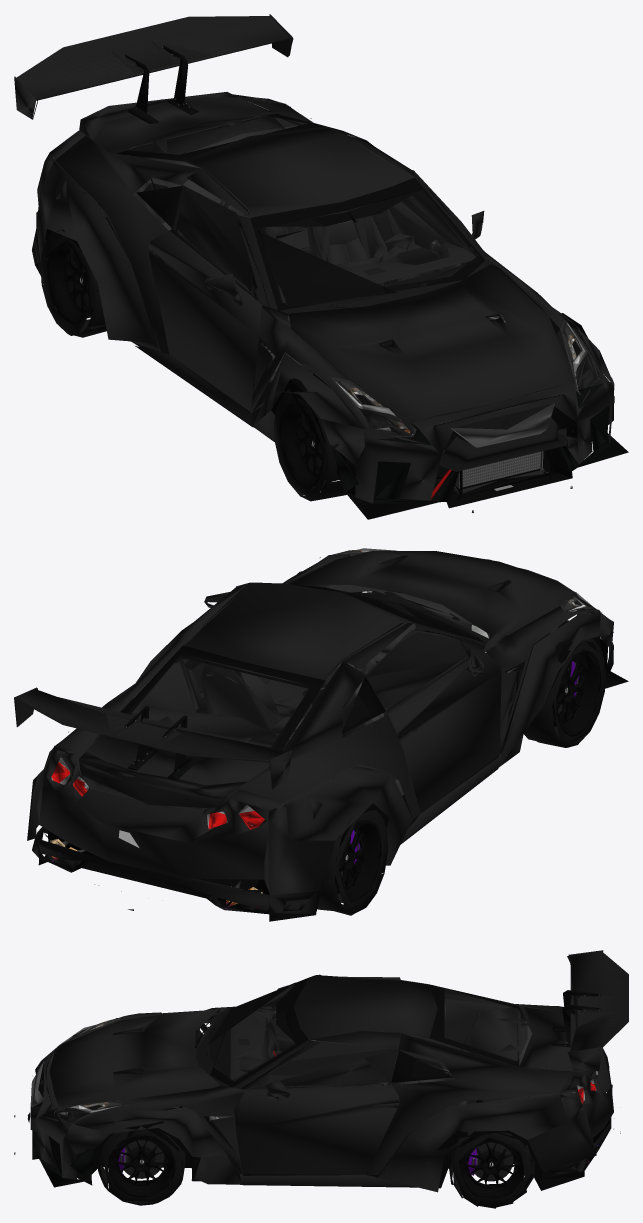
Rendered from gtr-type2.glb.
3 renders of one model, top to bottom at view 1: azimuth 30°, elevation 25°; view 2: azimuth 150°, elevation 25°; view 3: azimuth 270°, elevation 25°, orthographic. The views are drawn at different scales.
Visible parts, largest first — view 1: n:Kit4_Paint_Geo_lodA_Kit4_Paint_Geo_lodA_Nissan_GTRTNR4_201, n:Kit4_Window_Geo_lodA_Kit4_Window_Geo_lodA_Nissan_GTRTNR4_2 (×2), n:Hood4a_Paint_Geo_lodA_Hood4a_Paint_Geo_lodA_Nissan_GTRTNR4, n:Wing4b_Paint_Geo_lodA_Wing4b_Paint_Geo_lodA_Nissan_GTRTNR4, n:Kit4_Coloured_Geo_lodA_Kit4_Coloured_Geo_lodA_Nissan_GTRTN, n:Interior_Geo_lodA_Interior_Geo_lodA_Nissan_GTRTNR4_2017Int, n:Wing4b_Carbon1_Geo_lodA_Wing4b_Carbon1_Geo_lodA_Nissan_GTR, n:Kit4_Base_Geo_lodA_Kit4_Base_Geo_lodA_Nissan_GTRTNR4_2017B, n:Kit4_Light_Geo_lodA_Kit4_Light_Geo_lodA_Nissan_GTRTNR4_201, Mesh_rim_0_284_424, Mesh2_rim_0_518_772, n:Wing4b_Coloured_Geo_lodA_Wing4b_Coloured_Geo_lodA_Nissan_G (+3 smaller); view 2: n:Wing4b_Paint_Geo_lodA_Wing4b_Paint_Geo_lodA_Nissan_GTRTNR4, n:Kit4_Paint_Geo_lodA_Kit4_Paint_Geo_lodA_Nissan_GTRTNR4_201, n:Kit4_Window_Geo_lodA_Kit4_Window_Geo_lodA_Nissan_GTRTNR4_2 (×3), n:Kit4_Coloured_Geo_lodA_Kit4_Coloured_Geo_lodA_Nissan_GTRTN, n:Hood4a_Paint_Geo_lodA_Hood4a_Paint_Geo_lodA_Nissan_GTRTNR4, n:Interior_Geo_lodA_Interior_Geo_lodA_Nissan_GTRTNR4_2017Int, n:Wing4b_Carbon1_Geo_lodA_Wing4b_Carbon1_Geo_lodA_Nissan_GTR, n:Kit4_Base_Geo_lodA_Kit4_Base_Geo_lodA_Nissan_GTRTNR4_2017B, Mesh_rim_0_284_424, Mesh2_rim_0_518_772, polySurface433_N:Nissan_GTRNismoNRewardRecycled_2017_Wheel1A, n:Wing4b_Coloured_Geo_lodA_Wing4b_Coloured_Geo_lodA_Nissan_G (+4 smaller); view 3: n:Kit4_Paint_Geo_lodA_Kit4_Paint_Geo_lodA_Nissan_GTRTNR4_201, n:Wing4b_Paint_Geo_lodA_Wing4b_Paint_Geo_lodA_Nissan_GTRTNR4, n:Kit4_Window_Geo_lodA_Kit4_Window_Geo_lodA_Nissan_GTRTNR4_2 (×2), n:Hood4a_Paint_Geo_lodA_Hood4a_Paint_Geo_lodA_Nissan_GTRTNR4, n:Kit4_Coloured_Geo_lodA_Kit4_Coloured_Geo_lodA_Nissan_GTRTN, n:Interior_Geo_lodA_Interior_Geo_lodA_Nissan_GTRTNR4_2017Int, n:Wing4b_Carbon1_Geo_lodA_Wing4b_Carbon1_Geo_lodA_Nissan_GTR, n:Kit4_Base_Geo_lodA_Kit4_Base_Geo_lodA_Nissan_GTRTNR4_2017B, aimgain_G2M:Mesh_rim_0_171_256, Mesh1_rim_0_401_598, polySurface312_N:Nissan_GTRNismoNRewardRecycled_2017_Wheel1A, polySurface140_N:Nissan_GTRNismoNRewardRecycled_2017_Wheel1A (+4 smaller).
Part boxes in pixels (<box>): n:Kit4_Paint_Geo_lodA_Kit4_Paint_Geo_lodA_Nissan_GTRTNR4_201: <box>86,102,614,503</box>; n:Kit4_Window_Geo_lodA_Kit4_Window_Geo_lodA_Nissan_GTRTNR4_2 (×2): <box>117,114,597,436</box>; n:Hood4a_Paint_Geo_lodA_Hood4a_Paint_Geo_lodA_Nissan_GTRTNR4: <box>288,264,574,422</box>; n:Wing4b_Paint_Geo_lodA_Wing4b_Paint_Geo_lodA_Nissan_GTRTNR4: <box>14,17,364,354</box>; n:Kit4_Coloured_Geo_lodA_Kit4_Coloured_Geo_lodA_Nissan_GTRTN: <box>32,134,628,519</box>; n:Interior_Geo_lodA_Interior_Geo_lodA_Nissan_GTRTNR4_2017Int: <box>99,116,475,382</box>; n:Wing4b_Carbon1_Geo_lodA_Wing4b_Carbon1_Geo_lodA_Nissan_GTR: <box>14,14,293,119</box>; n:Kit4_Base_Geo_lodA_Kit4_Base_Geo_lodA_Nissan_GTRTNR4_2017B: <box>46,115,598,508</box>; n:Kit4_Light_Geo_lodA_Kit4_Light_Geo_lodA_Nissan_GTRTNR4_201: <box>53,97,599,437</box>; Mesh_rim_0_284_424: <box>279,403,340,489</box>; Mesh2_rim_0_518_772: <box>47,241,99,325</box>; n:Wing4b_Coloured_Geo_lodA_Wing4b_Coloured_Geo_lodA_Nissan_G: <box>16,45,311,341</box>; n:Wing4b_Paint_Geo_lodA_Wing4b_Paint_Geo_lodA_Nissan_GTRTNR4: <box>18,626,420,895</box>; n:Kit4_Paint_Geo_lodA_Kit4_Paint_Geo_lodA_Nissan_GTRTNR4_201: <box>81,550,613,842</box>; n:Kit4_Window_Geo_lodA_Kit4_Window_Geo_lodA_Nissan_GTRTNR4_2 (×3): <box>51,548,595,829</box>; n:Kit4_Coloured_Geo_lodA_Kit4_Coloured_Geo_lodA_Nissan_GTRTN: <box>32,557,628,914</box>; n:Hood4a_Paint_Geo_lodA_Hood4a_Paint_Geo_lodA_Nissan_GTRTNR4: <box>290,551,574,634</box>; n:Interior_Geo_lodA_Interior_Geo_lodA_Nissan_GTRTNR4_2017Int: <box>78,623,476,815</box>; n:Wing4b_Carbon1_Geo_lodA_Wing4b_Carbon1_Geo_lodA_Nissan_GTR: <box>14,688,292,789</box>; n:Kit4_Base_Geo_lodA_Kit4_Base_Geo_lodA_Nissan_GTRTNR4_2017B: <box>38,571,600,921</box>; Mesh_rim_0_284_424: <box>531,650,600,736</box>; Mesh2_rim_0_518_772: <box>334,821,381,902</box>; polySurface433_N:Nissan_GTRNismoNRewardRecycled_2017_Wheel1A: <box>334,810,388,913</box>; n:Wing4b_Coloured_Geo_lodA_Wing4b_Coloured_Geo_lodA_Nissan_G: <box>44,706,404,824</box>; n:Kit4_Paint_Geo_lodA_Kit4_Paint_Geo_lodA_Nissan_GTRTNR4_201: <box>35,976,596,1186</box>; n:Wing4b_Paint_Geo_lodA_Wing4b_Paint_Geo_lodA_Nissan_GTRTNR4: <box>366,950,613,1192</box>; n:Kit4_Window_Geo_lodA_Kit4_Window_Geo_lodA_Nissan_GTRTNR4_2 (×2): <box>55,976,592,1123</box>; n:Hood4a_Paint_Geo_lodA_Hood4a_Paint_Geo_lodA_Nissan_GTRTNR4: <box>49,1009,219,1107</box>; n:Kit4_Coloured_Geo_lodA_Kit4_Coloured_Geo_lodA_Nissan_GTRTN: <box>14,974,620,1187</box>; n:Interior_Geo_lodA_Interior_Geo_lodA_Nissan_GTRTNR4_2017Int: <box>209,983,575,1120</box>; n:Wing4b_Carbon1_Geo_lodA_Wing4b_Carbon1_Geo_lodA_Nissan_GTR: <box>567,950,628,1052</box>; n:Kit4_Base_Geo_lodA_Kit4_Base_Geo_lodA_Nissan_GTRTNR4_2017B: <box>32,982,584,1190</box>; aimgain_G2M:Mesh_rim_0_171_256: <box>108,1129,175,1197</box>; Mesh1_rim_0_401_598: <box>458,1134,524,1196</box>; polySurface312_N:Nissan_GTRNismoNRewardRecycled_2017_Wheel1A: <box>450,1133,532,1207</box>; polySurface140_N:Nissan_GTRNismoNRewardRecycled_2017_Wheel1A: <box>102,1129,182,1201</box>.
Size of the model in its own units: 0.0212 by 0.0138 by 0.0488.
Materials: 27 (17 with a texture image).
